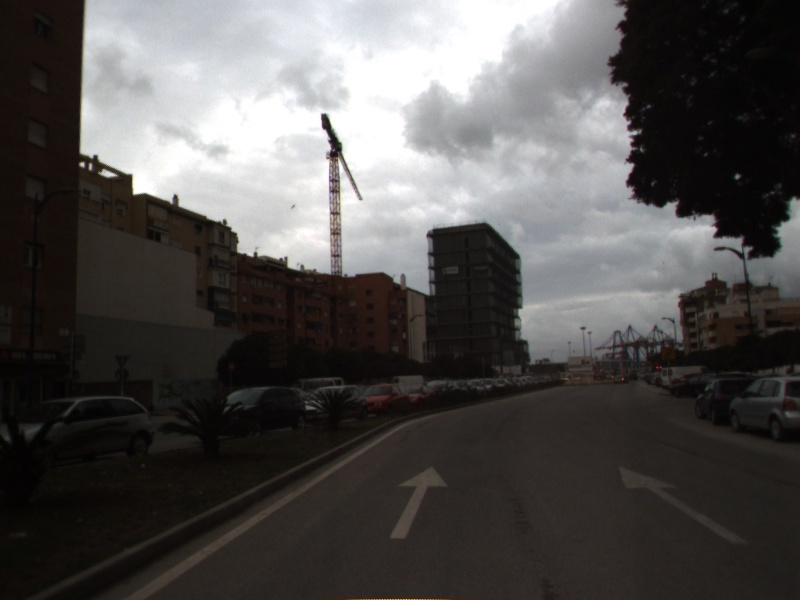STRAIGHT: (617, 463, 753, 546), (387, 463, 451, 542)
